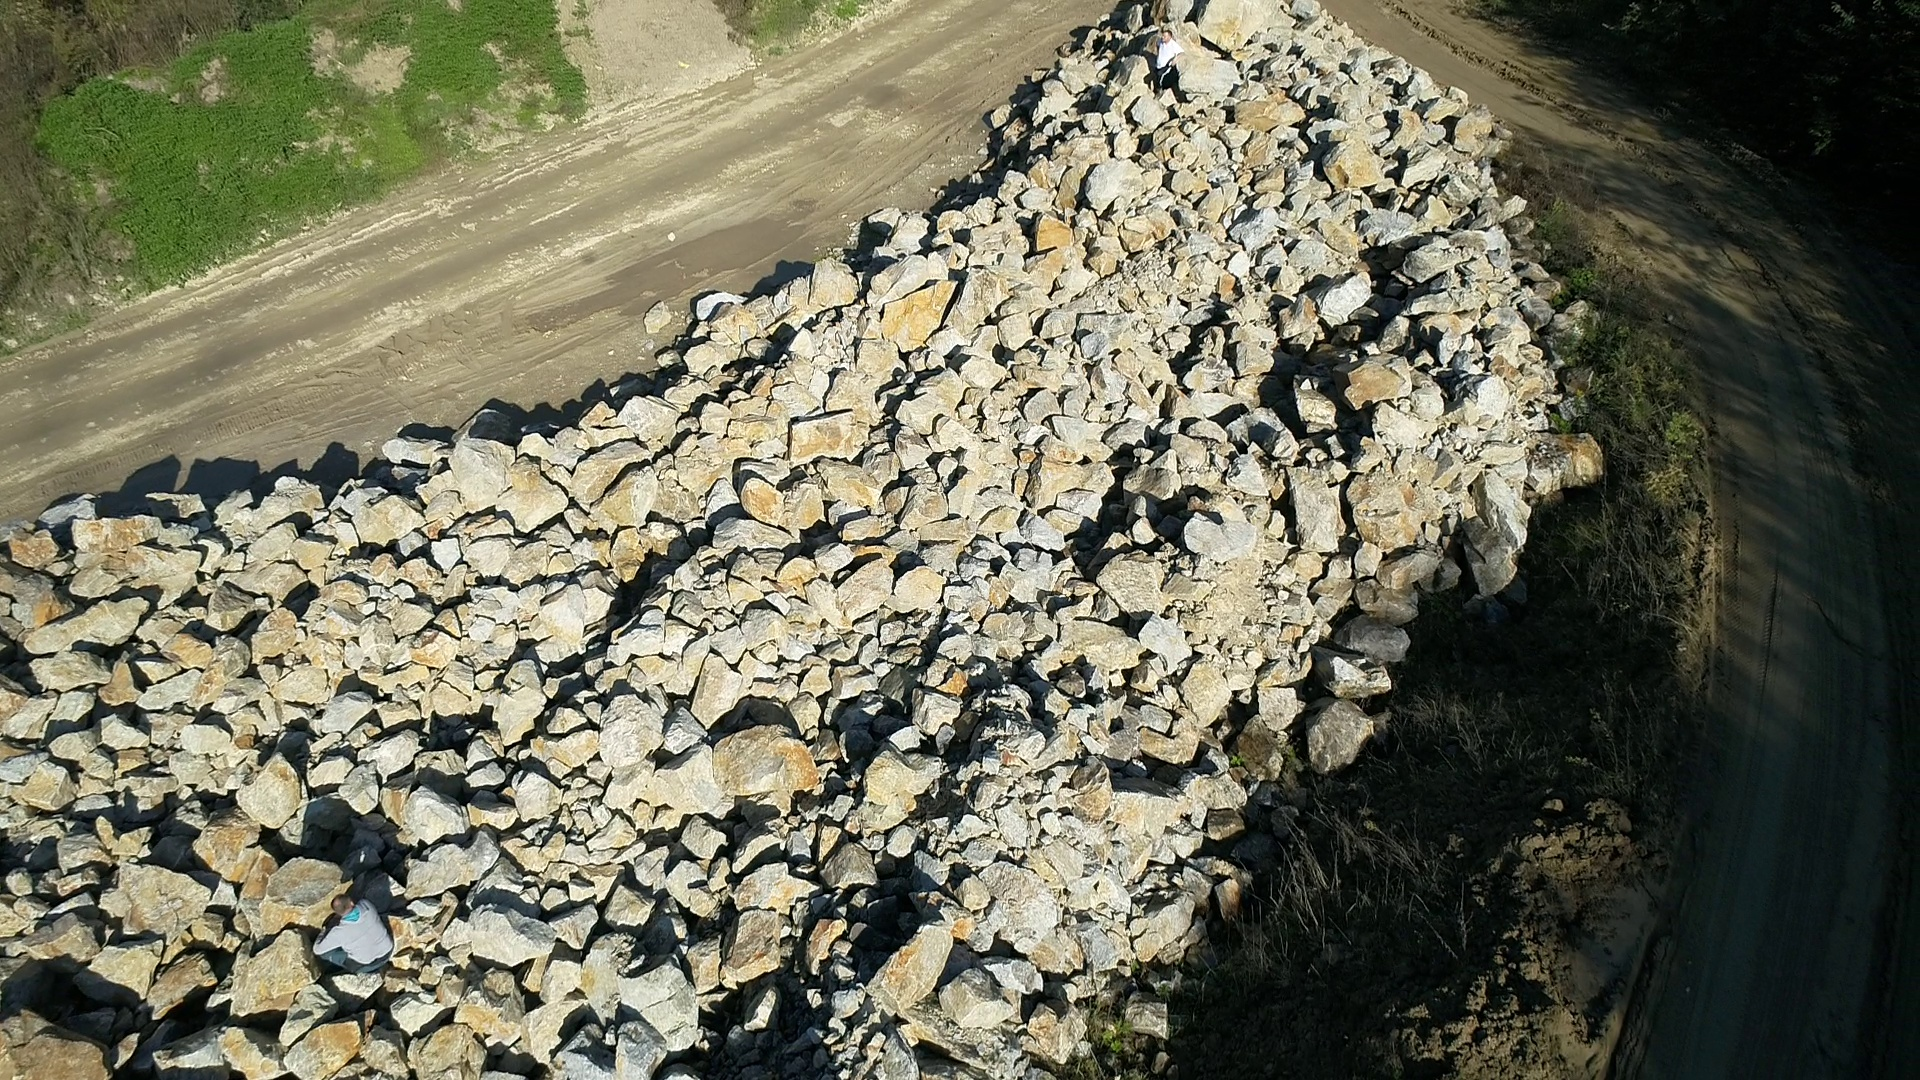person: (312, 893, 395, 974), (1153, 29, 1185, 93)
